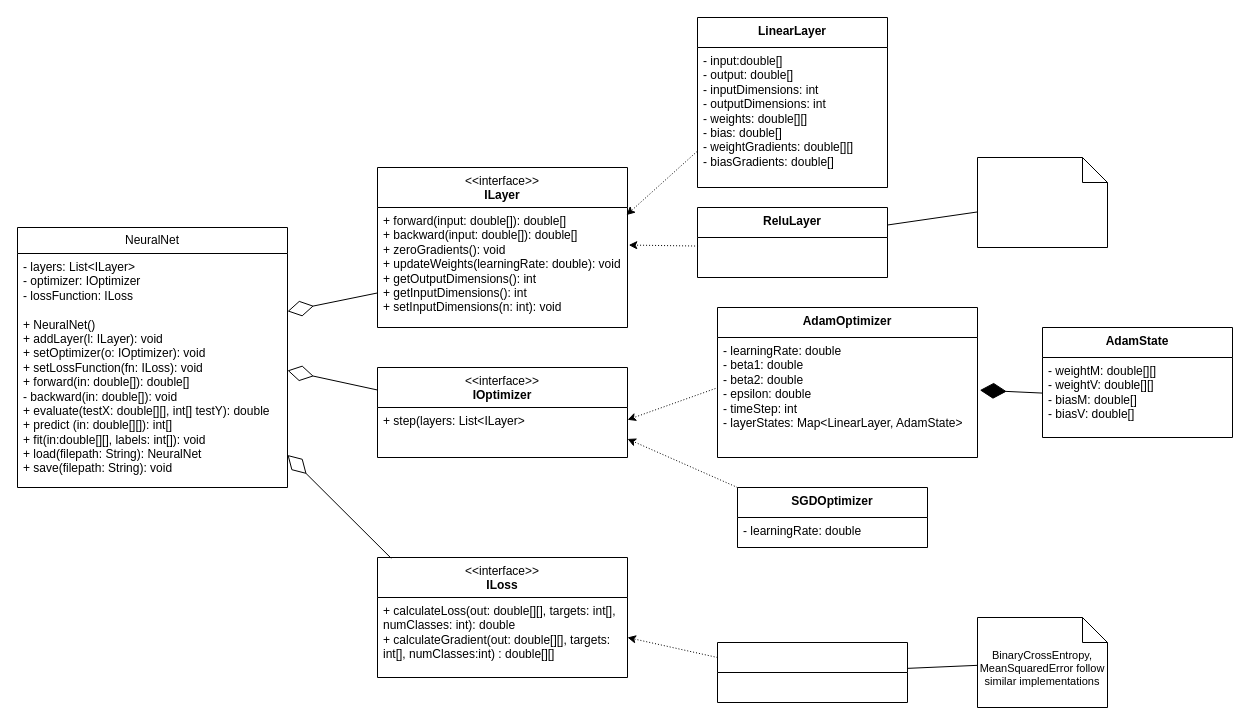
Image size: 1250x725. Some labels were removed from this diagram. The centre of each missing label's shape, as x and y in pixels:
MulticlassCrossEntropy: (x=812, y=672)
SigmoidLayer, SoftmaxLayer follow similar implementations: (x=1042, y=202)
